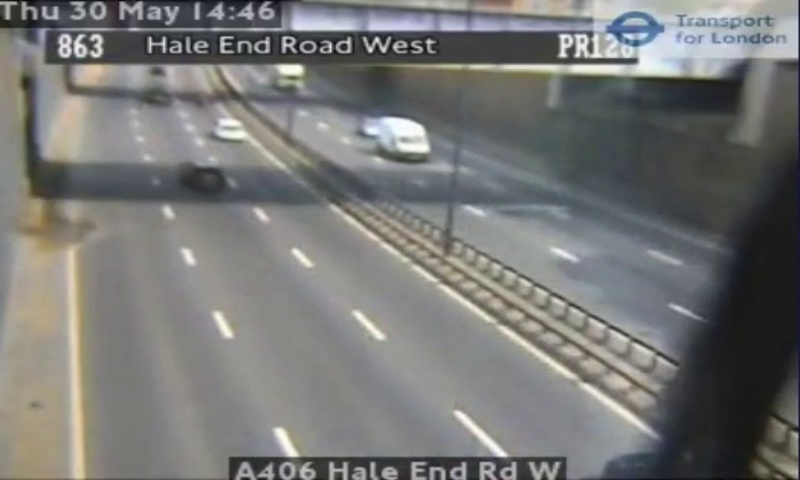car: (184, 161, 223, 194), (213, 118, 246, 140)
